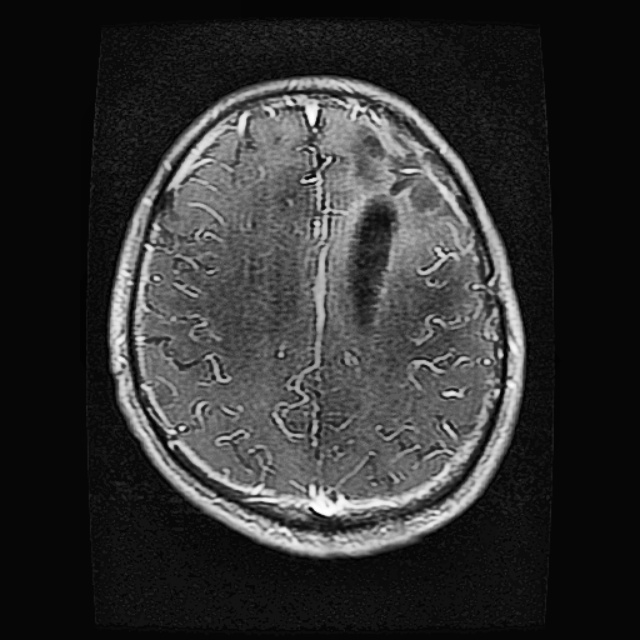Meningioma: (347, 118, 459, 325)
